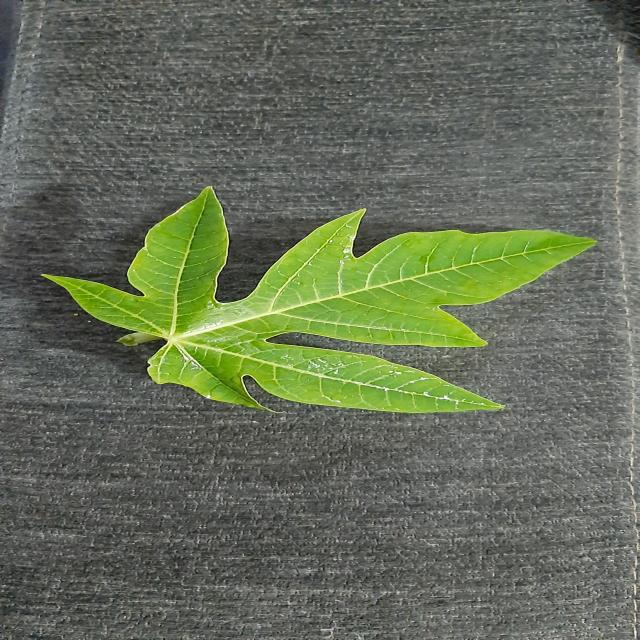papaya: (46, 188, 593, 412)
